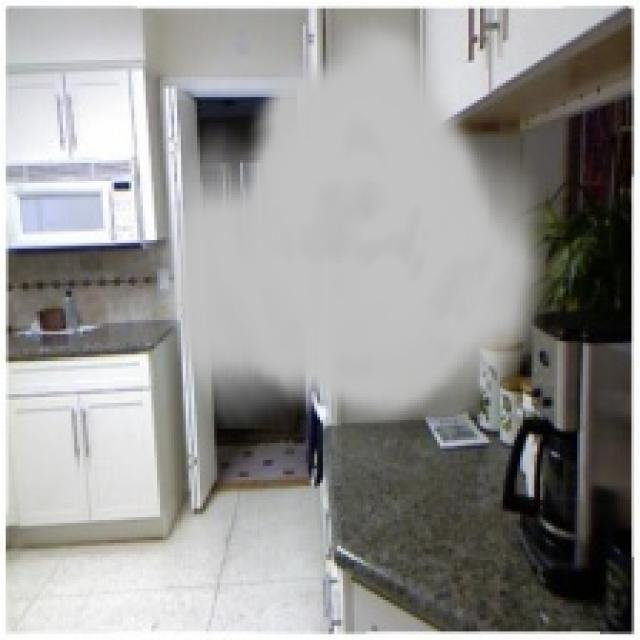smoke: (160, 14, 554, 429)
